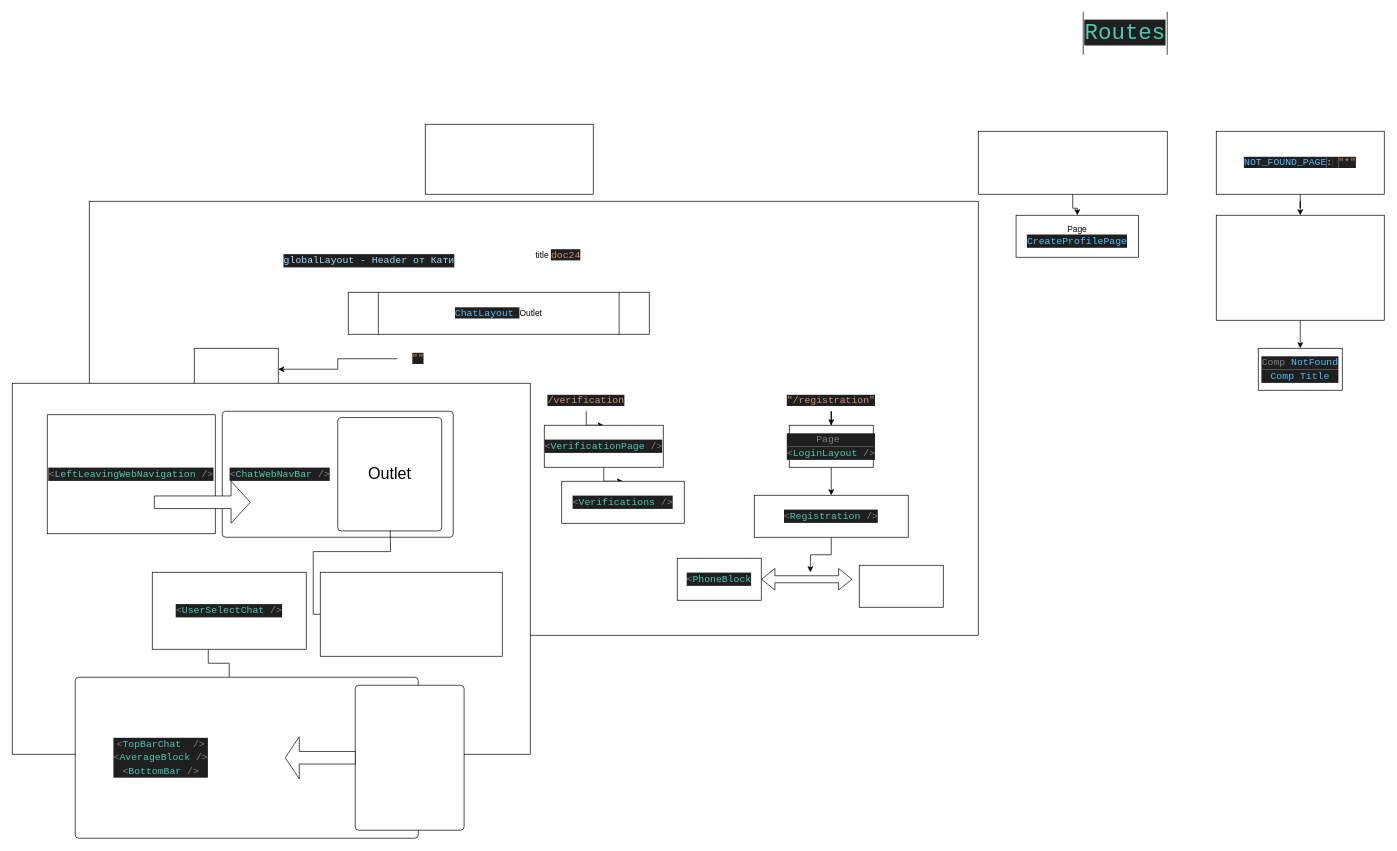
Image size: 1397x851. Some labels were removed from this diagram. The shapes that lost their labels are listed below. From the top down, each one's centre as x and y in pixels, then its label:
point (509, 159): CHAT_PAGE : ""
point (1072, 162): CREATE_PROFILE_PAGE : "/create-profile"
point (1300, 267): тут будут seo и тд. Page < NotFoundPage global />
point (236, 369): < ChatPageWeb />
point (901, 586): < CodeBlock
point (411, 614): < PlaceHolderSelectChat />
point (409, 757): < InformationBlock
